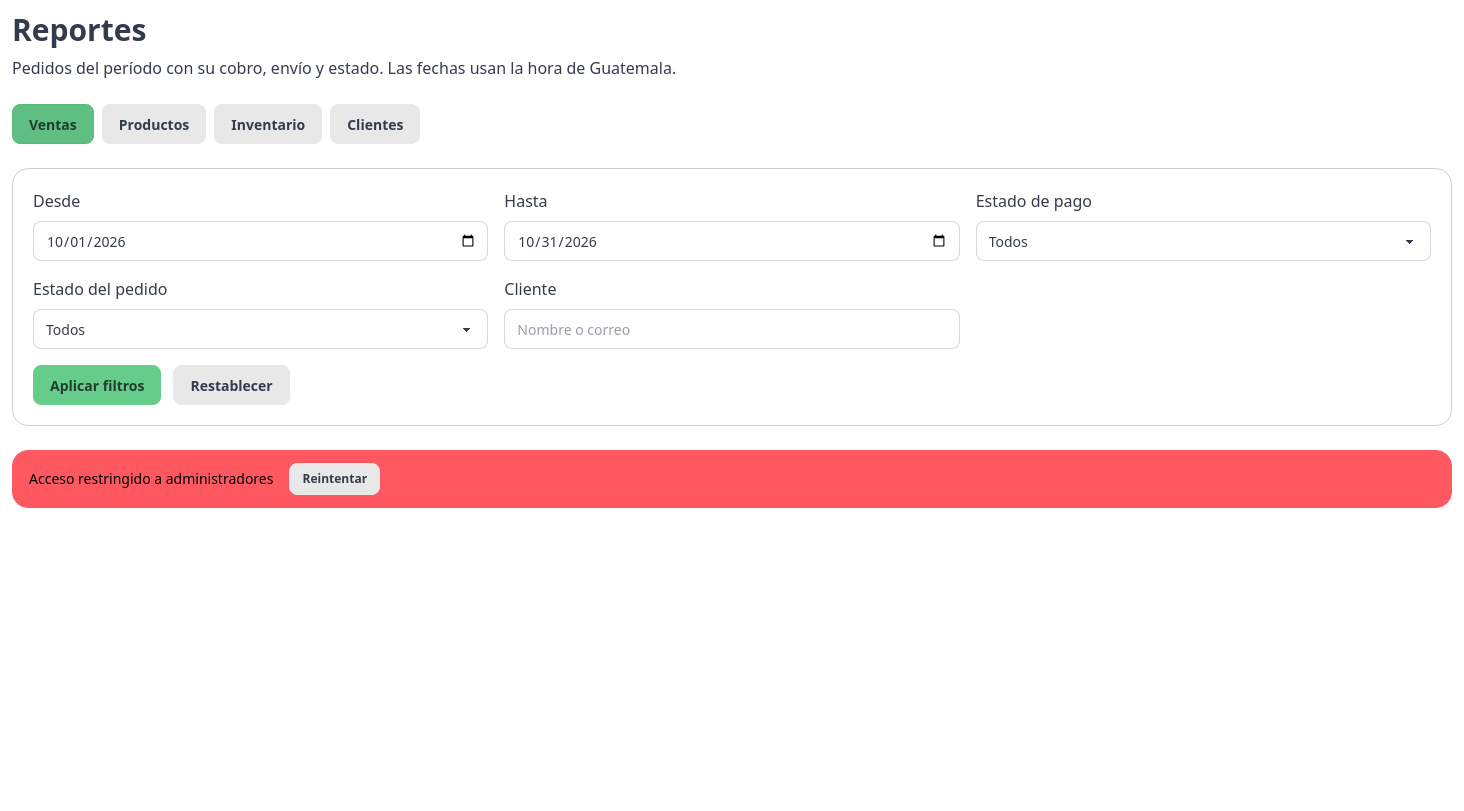
Test: ReportsAdminPageComponent (reportes del panel) › muestra el error del servidor al cargar y permite reintentar
Click the button "Reintentar" at (335, 479), box [290,463,380,495]
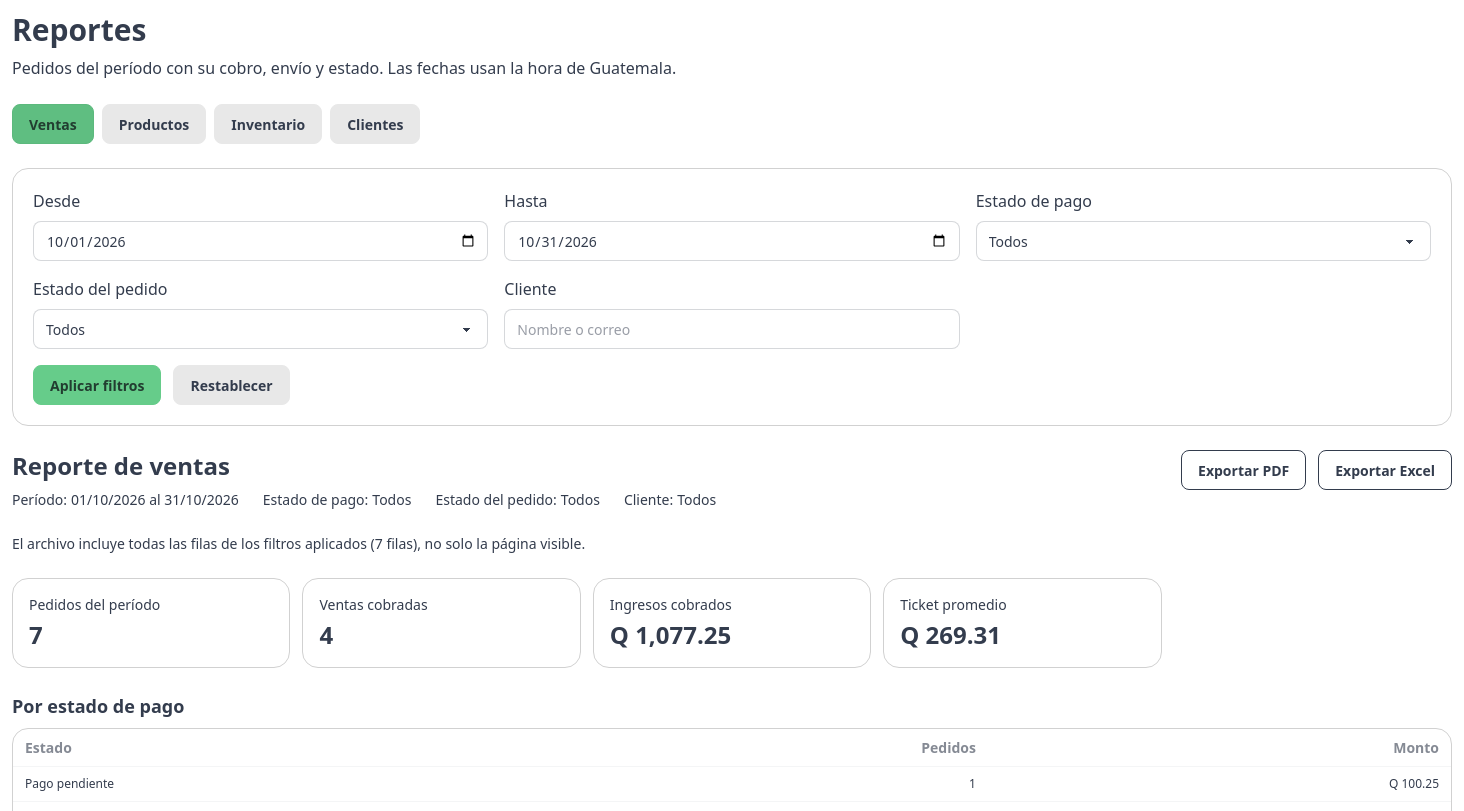
Expected: the text "Reporte de ventas" is shown, [12,449,230,482]
